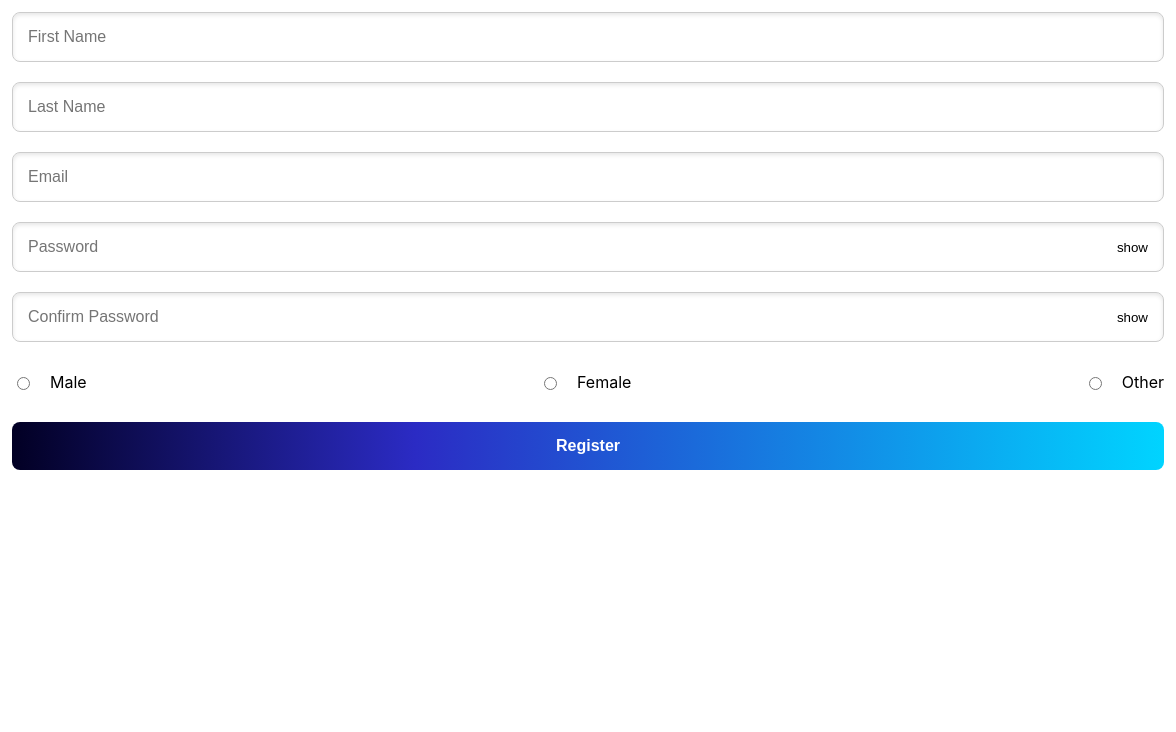
Test: RegisterForm › displays validation errors
Click the button "Register".
click(588, 446)  # box [12,422,1164,470]
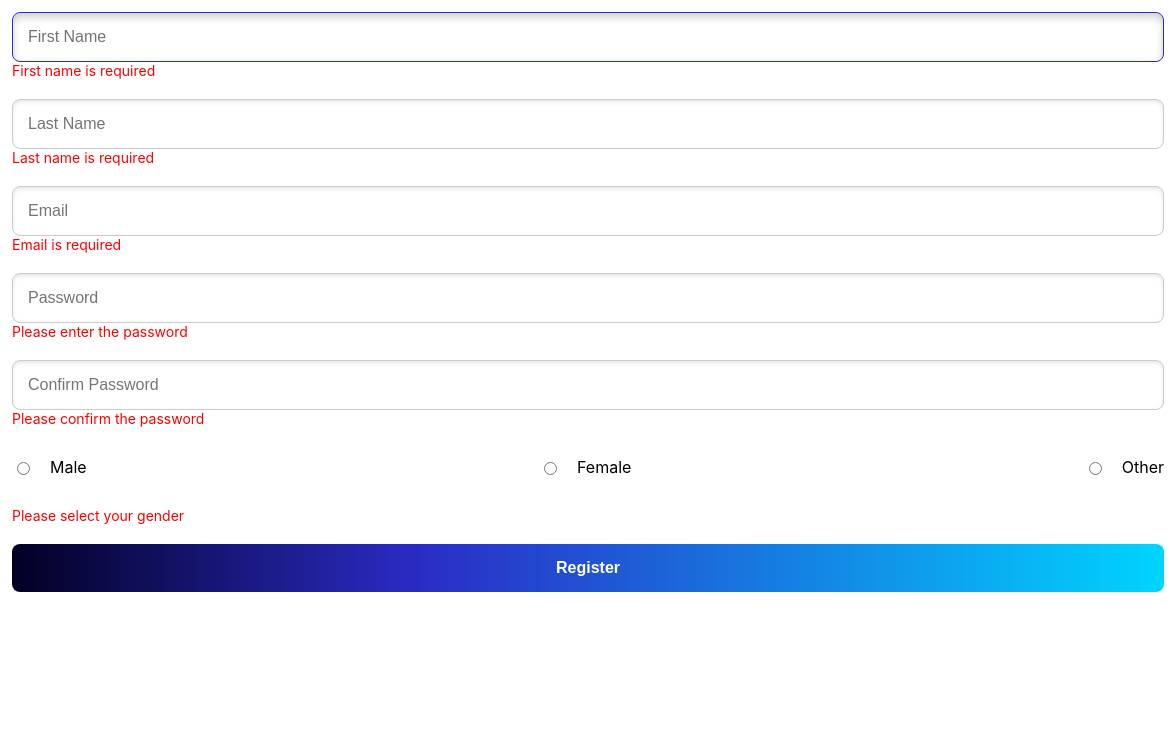
Result: the text "First name is required" is shown at [12,62,155,79]
Result: the text "Last name is required" is shown at [12,149,154,166]
Result: the text "Email is required" is shown at [12,236,121,253]
